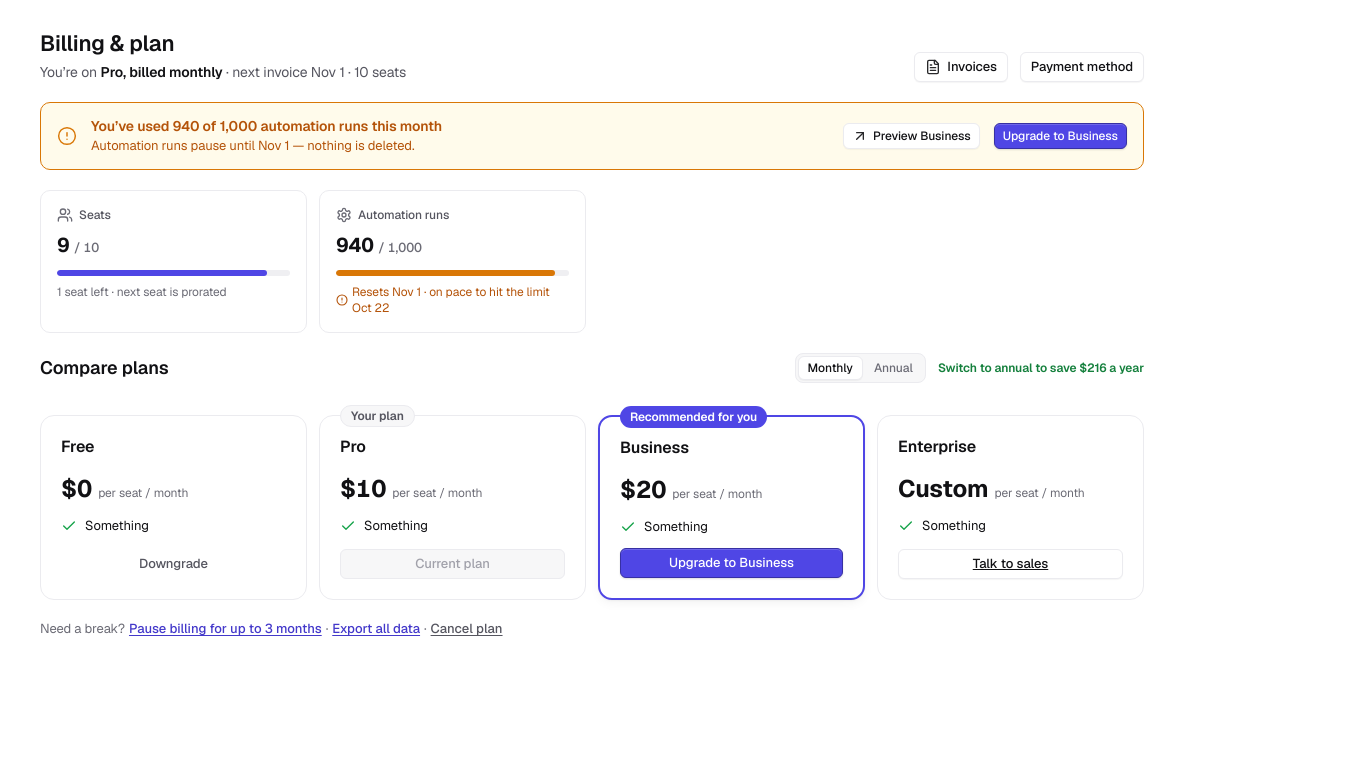
BillingPage › keeps pause, export and cancel reachable
Expected: the button "Pause billing for up to 3 months" is shown, [129,620,322,637]
Expected: the button "Export all data" is shown, [332,620,420,637]
Click the button "Cancel plan" at (467, 628), box [431,620,503,637]
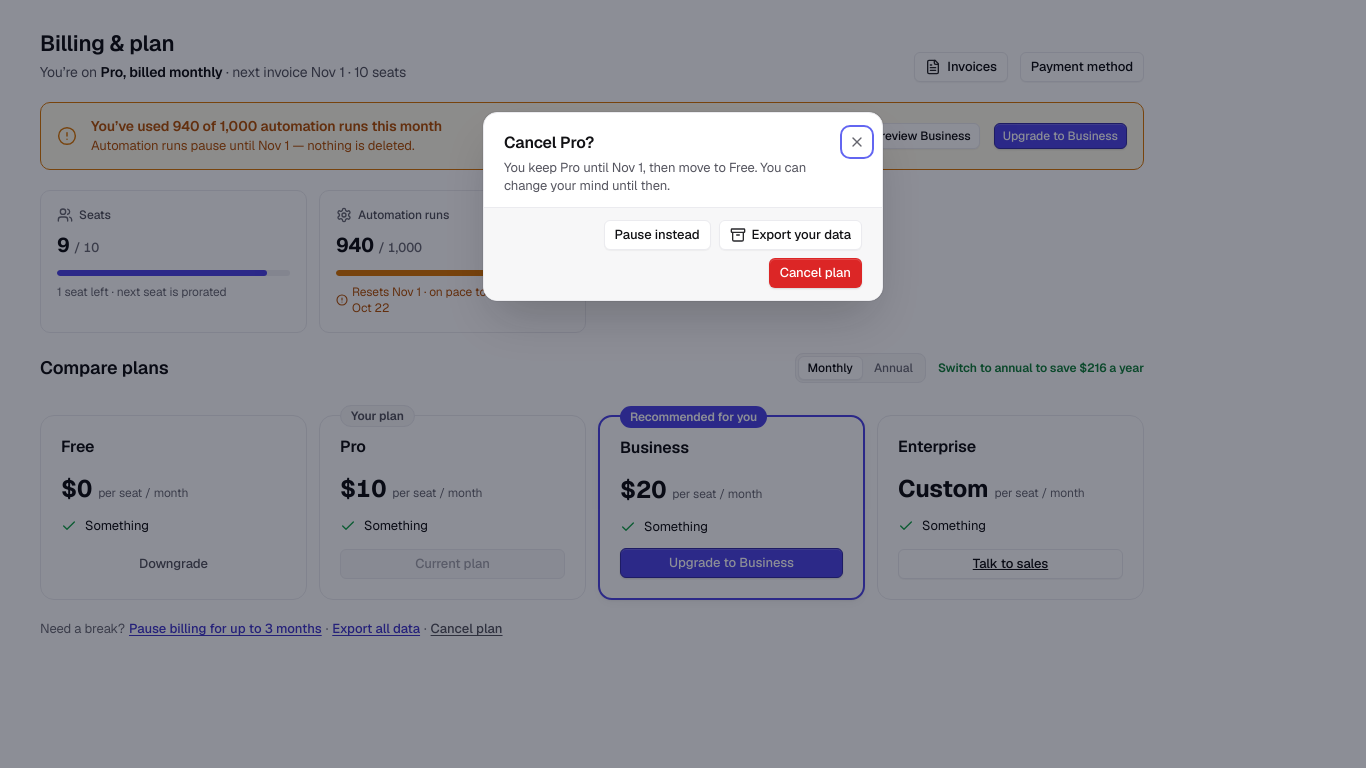
Expected: the button "Pause instead" is shown, [604,220,711,250]
Expected: the button "Export your data" is shown, [718,220,862,250]
